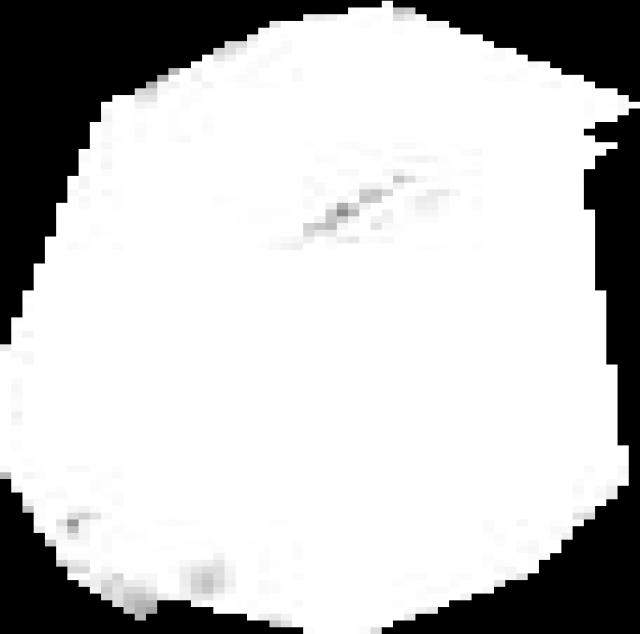tumor_moderate_chance: (0, 1, 640, 634)
